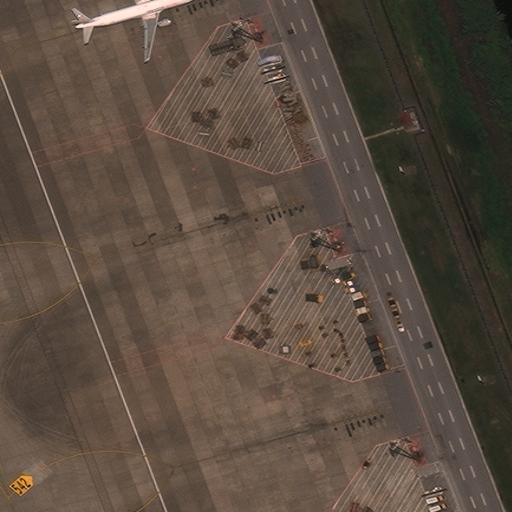Medium Civil Transport: (73, 0, 194, 61)
